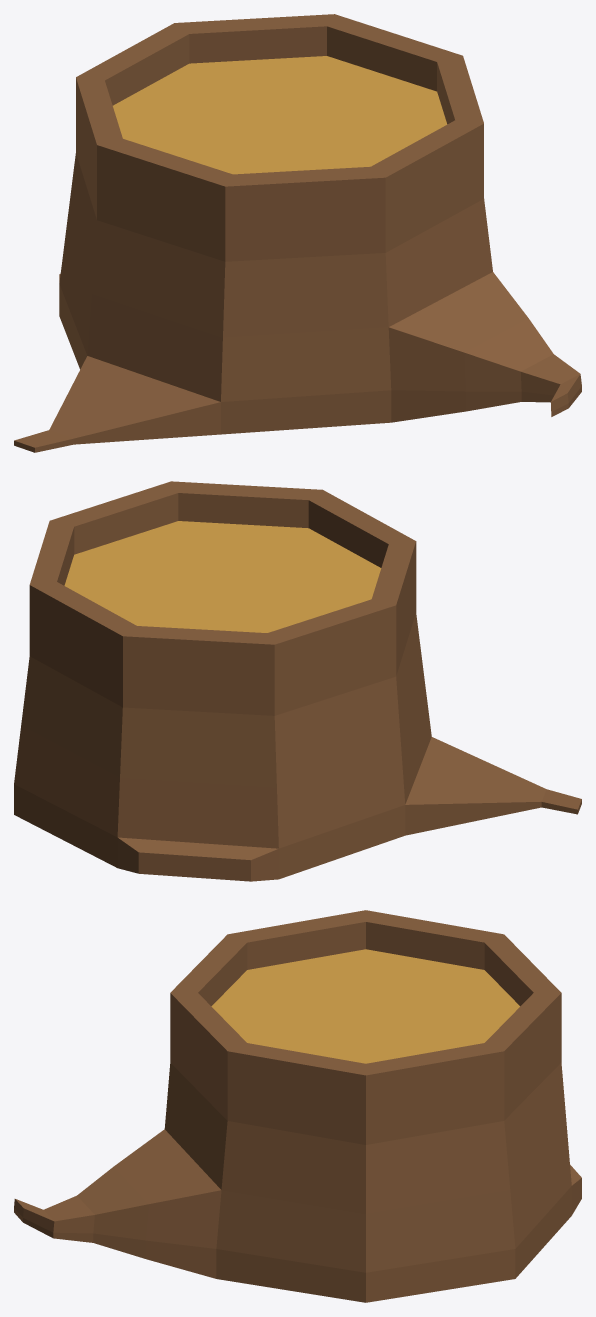
The model's file is TreeTrunk.fbx.
3 views of the same model, one above another, from view 1: azimuth 30°, elevation 25°; view 2: azimuth 150°, elevation 25°; view 3: azimuth 270°, elevation 25° (orthographic). The views are drawn at different scales.
Visible parts, largest first — view 1: Cube.026; view 2: Cube.026; view 3: Cube.026.
Part boxes in pixels (x1,y1,x2,y2): Cube.026: [14, 14, 581, 452]; Cube.026: [14, 481, 581, 881]; Cube.026: [14, 910, 581, 1302].
Bounding box in the file's own units: 306 × 137 × 317.
